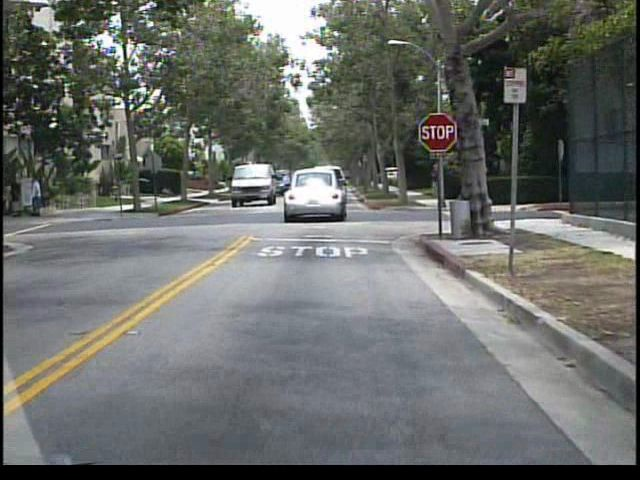person: (11, 172, 28, 219), (33, 170, 47, 219)
